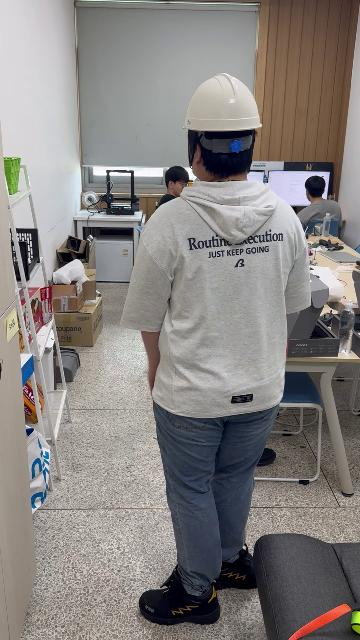helmet_worn: (181, 73, 263, 130)
shoe_worn: (139, 568, 219, 626), (215, 544, 258, 590)
vest_not_worn: (144, 197, 294, 415)
